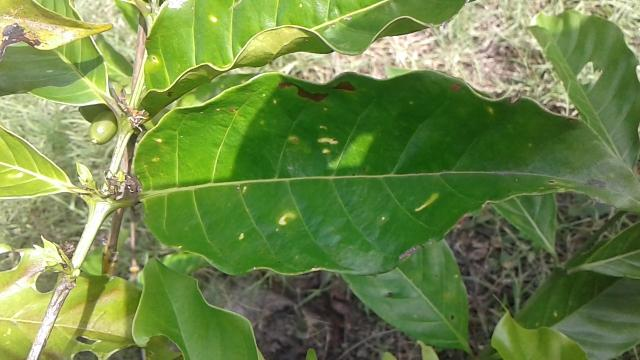rust_level_1: (132, 64, 640, 280)
